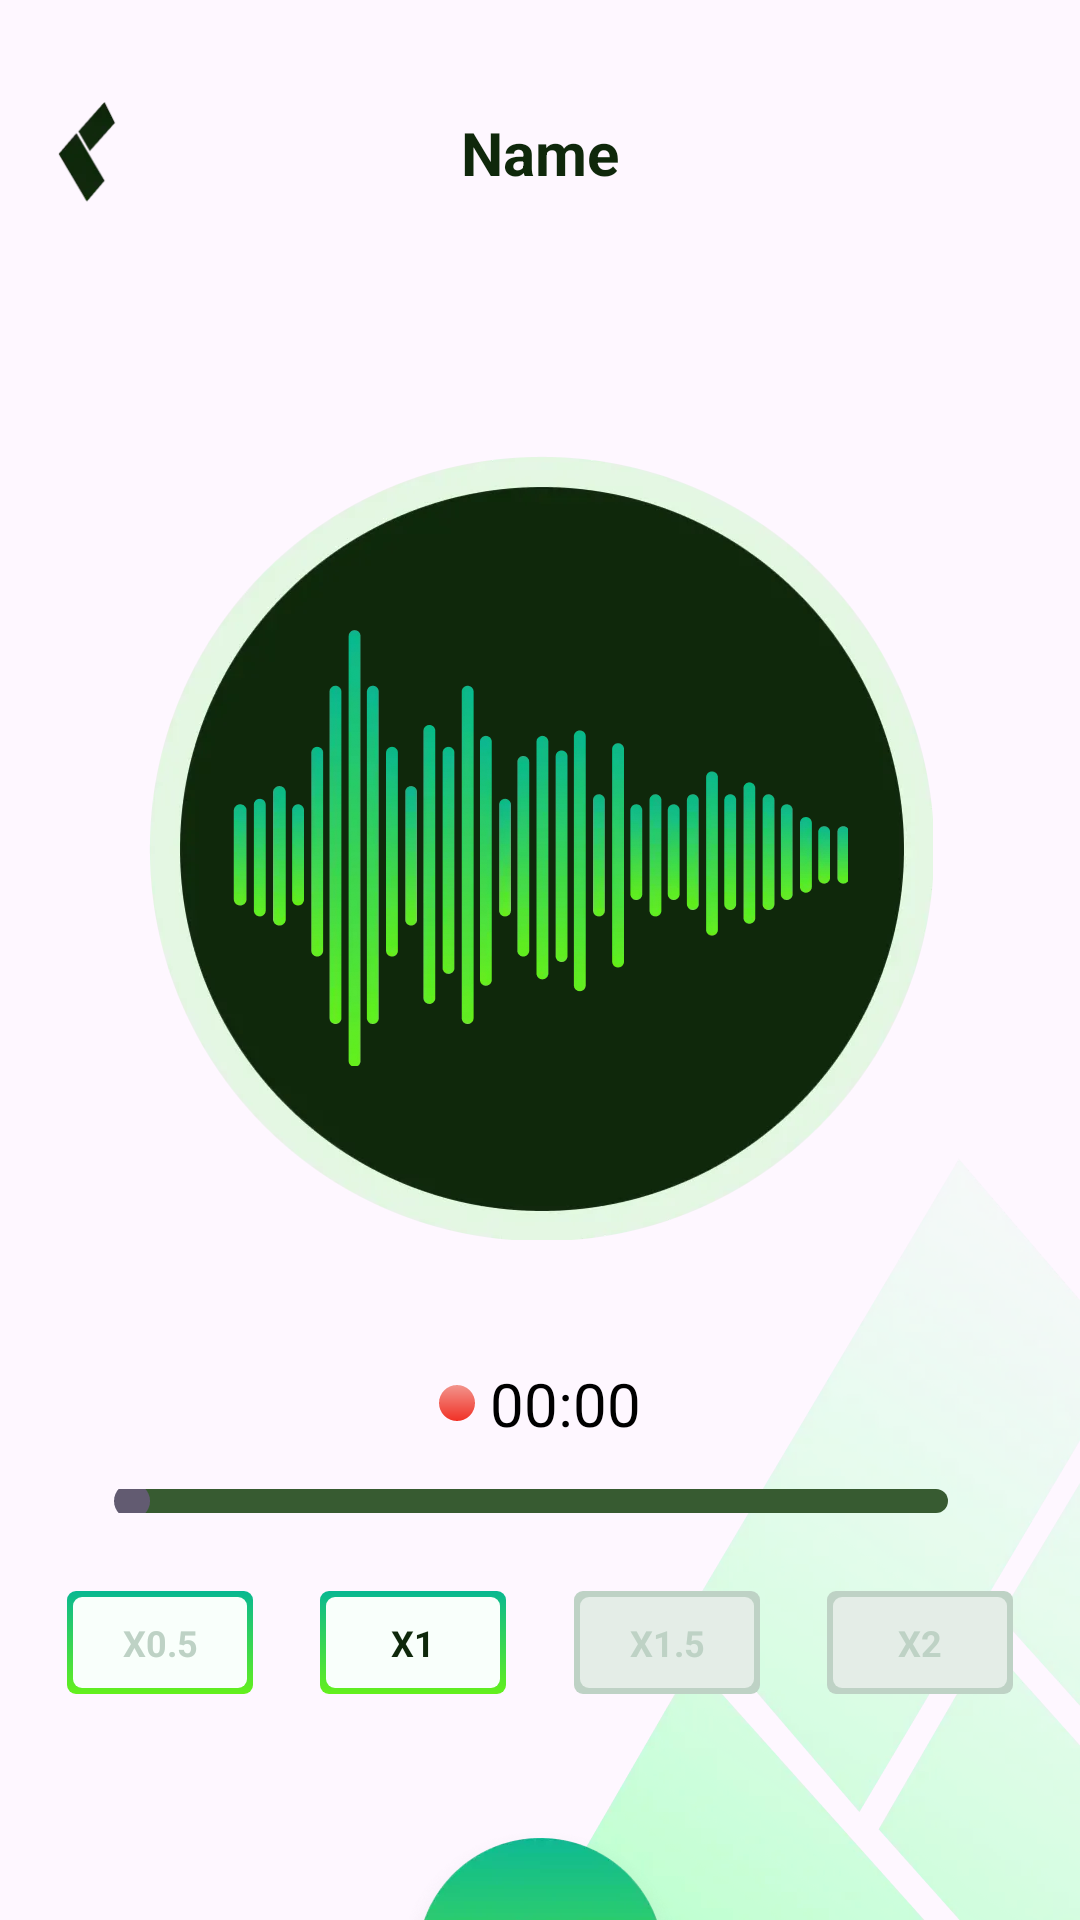

Icon click points for this 1080*1920 phone screenshot, format (x=x, y=y):
back: (x=87, y=152)
